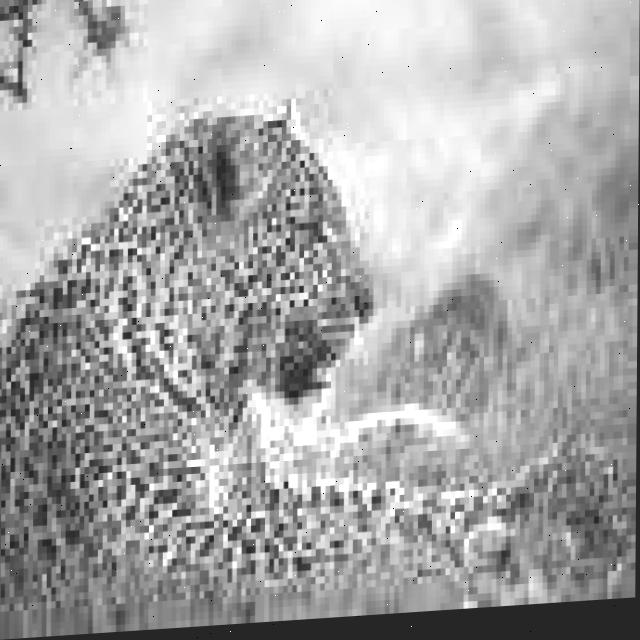Leopard: (56, 136, 434, 565)
